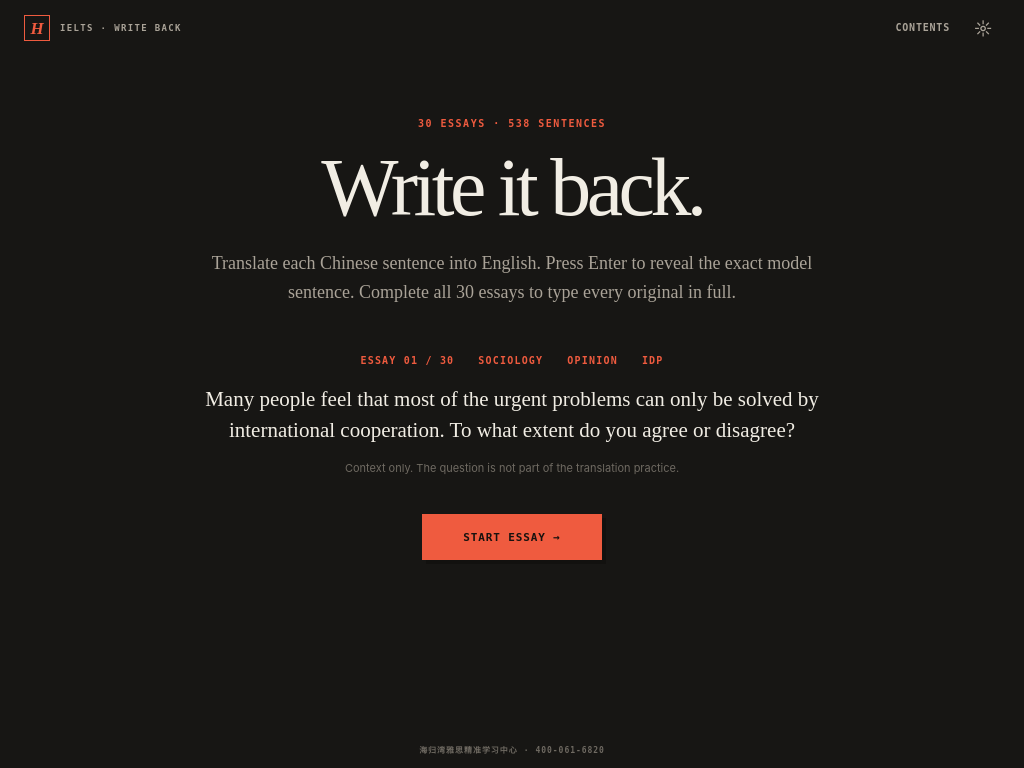
Test: translation practice flow › requires a real attempt before Enter reveals the exact original
Click the button "START ESSAY →".
click(512, 537)  # box [422, 514, 602, 560]
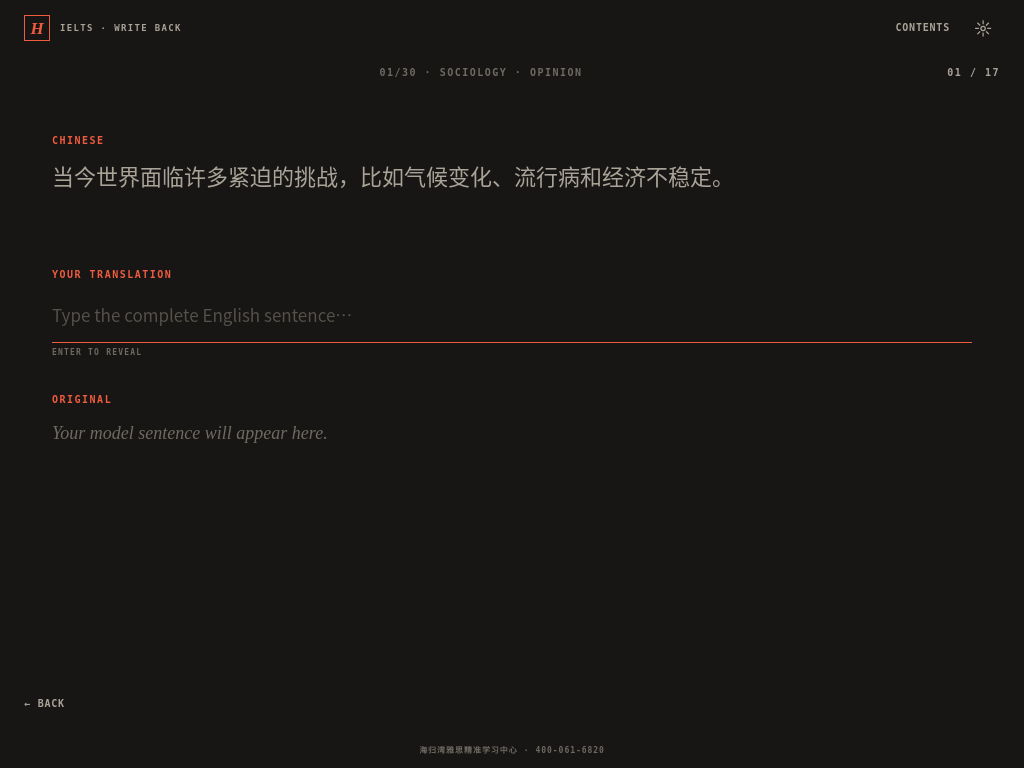
Press Enter in the field labelled "YOUR TRANSLATION", box [52, 291, 972, 343]
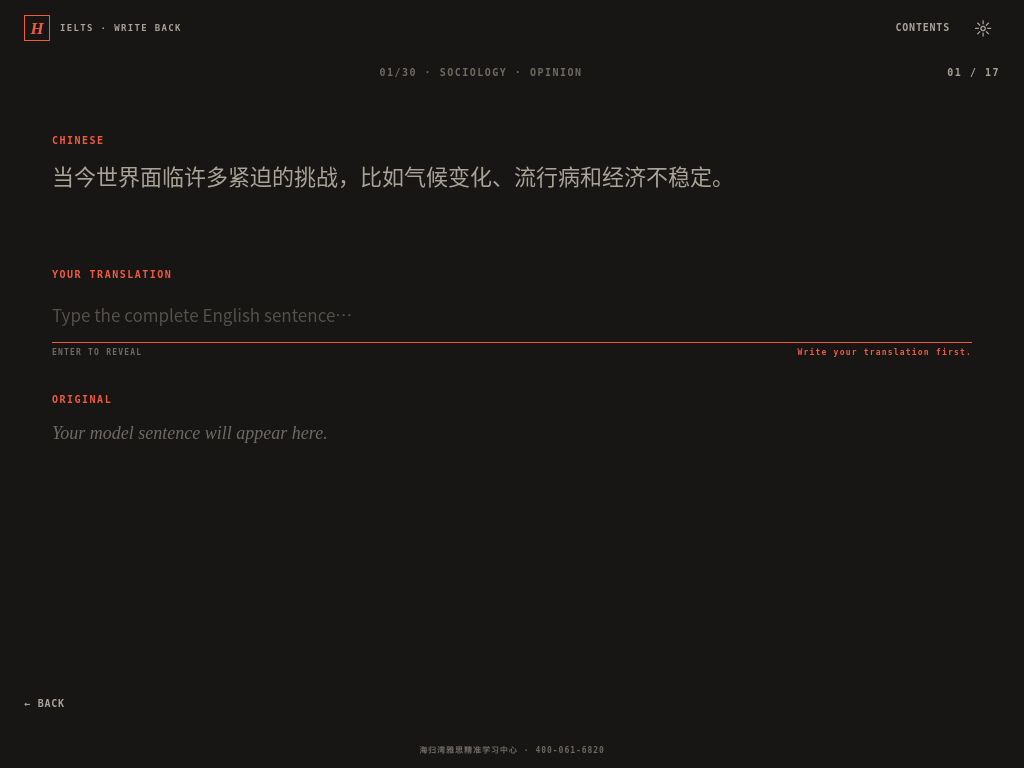
expect the text "Write your translation first." is shown: met, box [798, 348, 972, 357]
Type "My first full translation." into the field labelled "YOUR TRANSLATION".
click(512, 317); type("My first full translation.")  # box [52, 291, 972, 343]
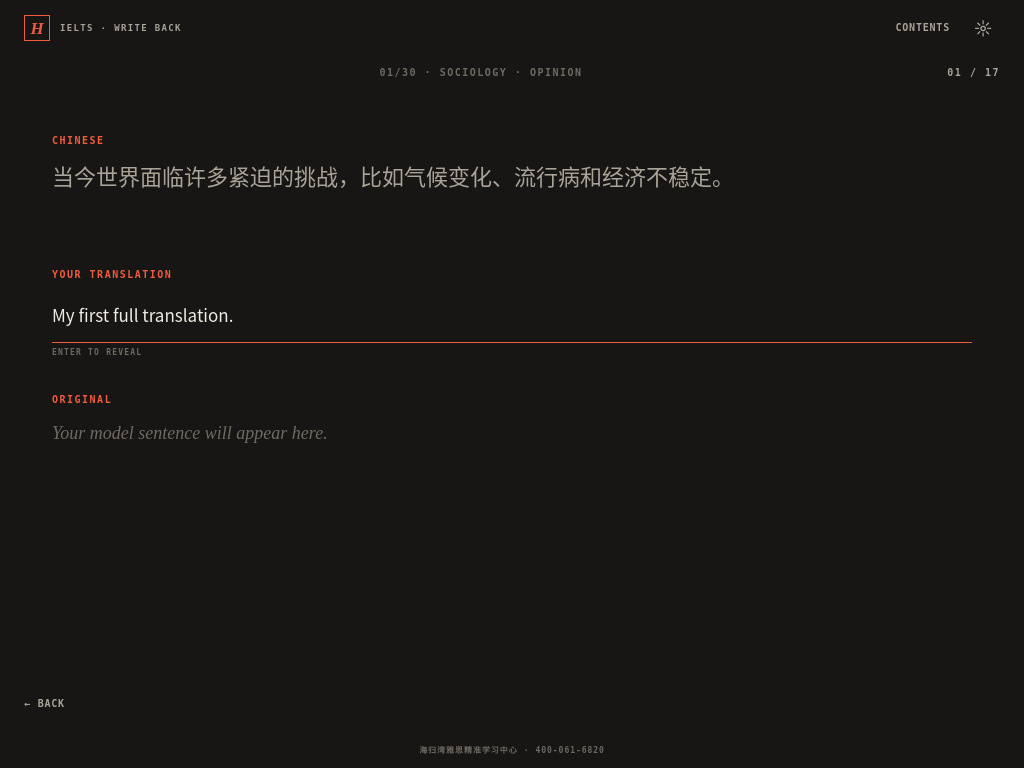
Press Enter in the field labelled "YOUR TRANSLATION", box [52, 291, 972, 343]
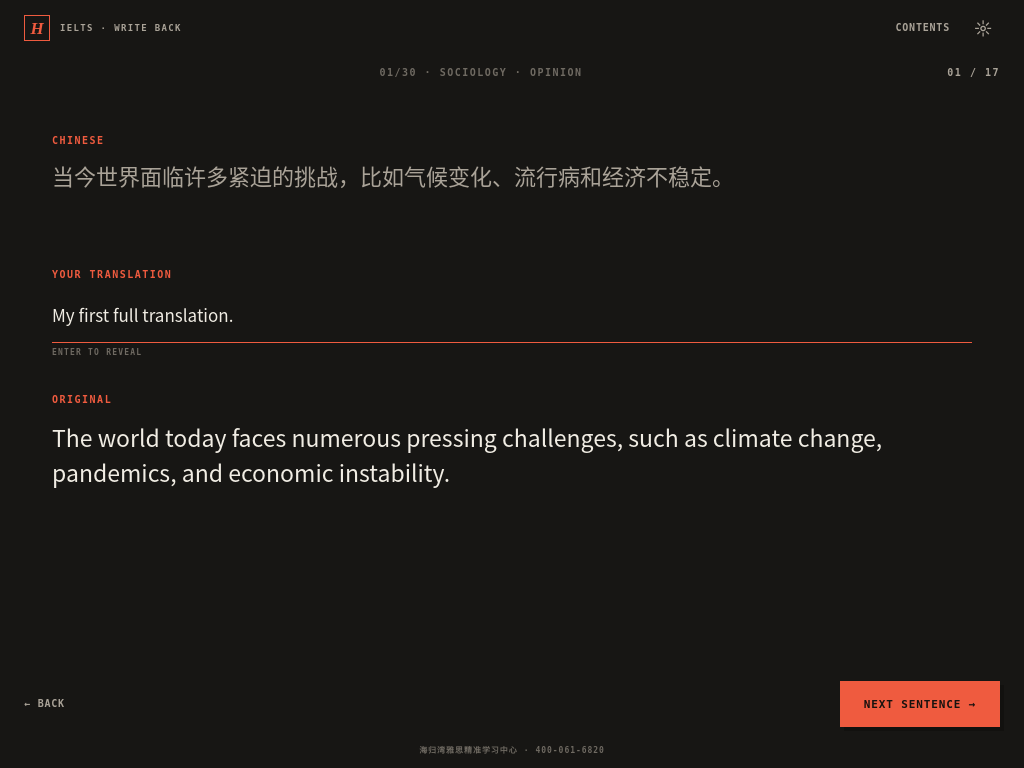
expect the text "The world today faces numerous pressing challenges, such as climate change, pandemics, and economic instability." is shown: met, box [52, 420, 882, 489]
expect the button "NEXT SENTENCE →" is shown: met, box [840, 681, 1000, 727]
